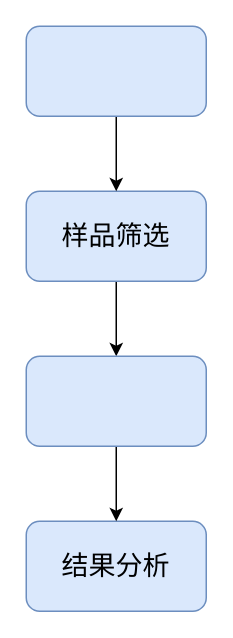
Image size: 233x638. Some labels were removed from this diagram. The centre of each missing label's shape, as x and y in pixels:
"同位素 成分分析" belongs at [115,400].
"样品采集" belongs at [115,70].
